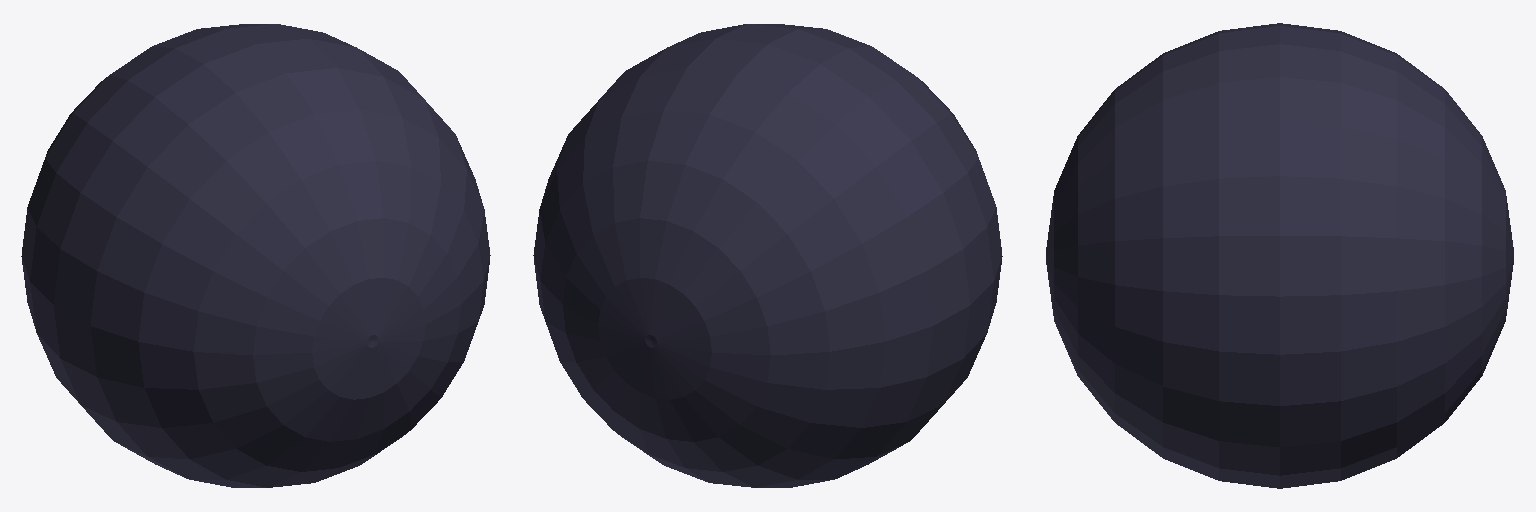
File: Bullet.obj
The picture shows the model from 3 angles: view 1: azimuth 30°, elevation 25°; view 2: azimuth 150°, elevation 25°; view 3: azimuth 270°, elevation 25°; orthographic projection.
Visible parts, largest first — view 1: sphere; view 2: sphere; view 3: sphere.
Part boxes in pixels (x1,y1,x2,y2): sphere: (21, 24, 490, 487); sphere: (533, 24, 1002, 487); sphere: (1046, 23, 1513, 488).
Size of the model in its own units: 0.5 by 0.5 by 0.5.